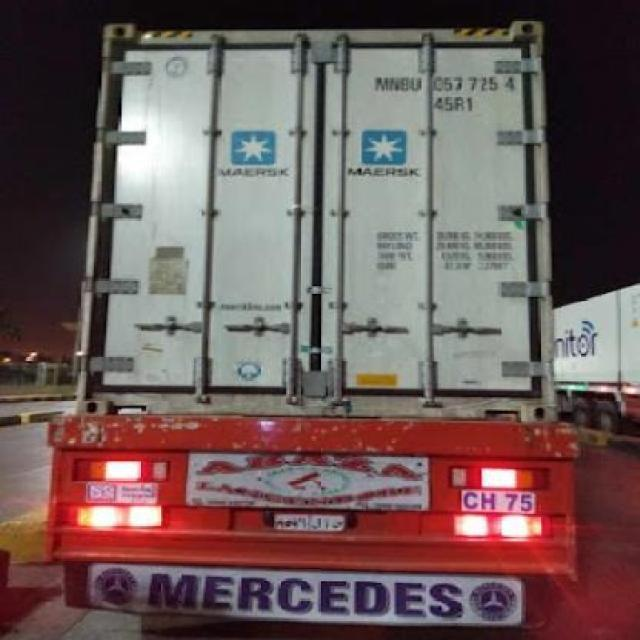ISO: (435, 94, 475, 112)
container_number: (374, 76, 510, 93)
